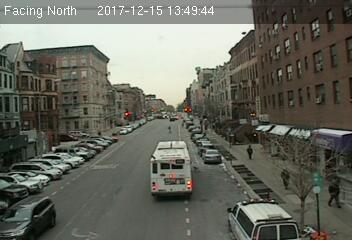bus: (151, 141, 193, 201)
car: (1, 194, 58, 240), (201, 149, 223, 164)
pedestrian: (326, 178, 343, 210), (280, 168, 293, 191), (245, 144, 255, 163)
police: (226, 199, 301, 240)
